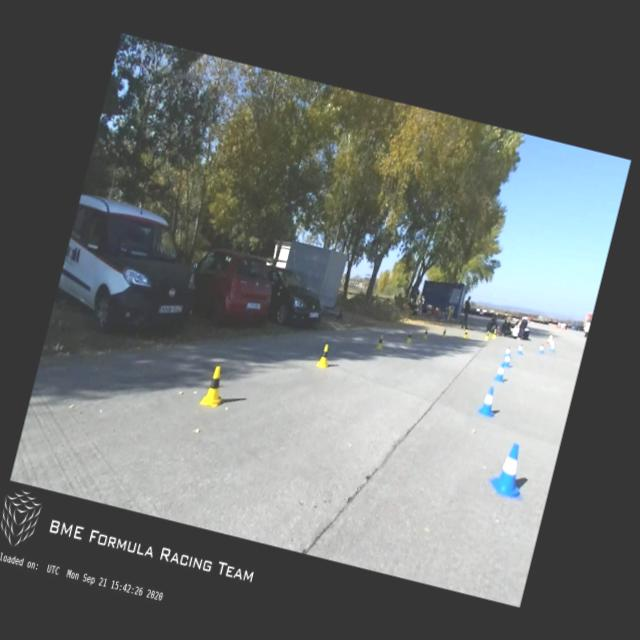blue_cone: (486, 438, 534, 502), (476, 384, 500, 418), (492, 362, 508, 383), (500, 352, 512, 368), (504, 344, 513, 358), (516, 342, 524, 356), (548, 341, 556, 352), (538, 344, 544, 354)
yellow_cone: (200, 362, 228, 410), (316, 342, 332, 369), (374, 333, 386, 350), (405, 330, 413, 344), (422, 328, 430, 340), (461, 328, 468, 340), (440, 327, 447, 338), (484, 332, 490, 339), (492, 332, 496, 338)
